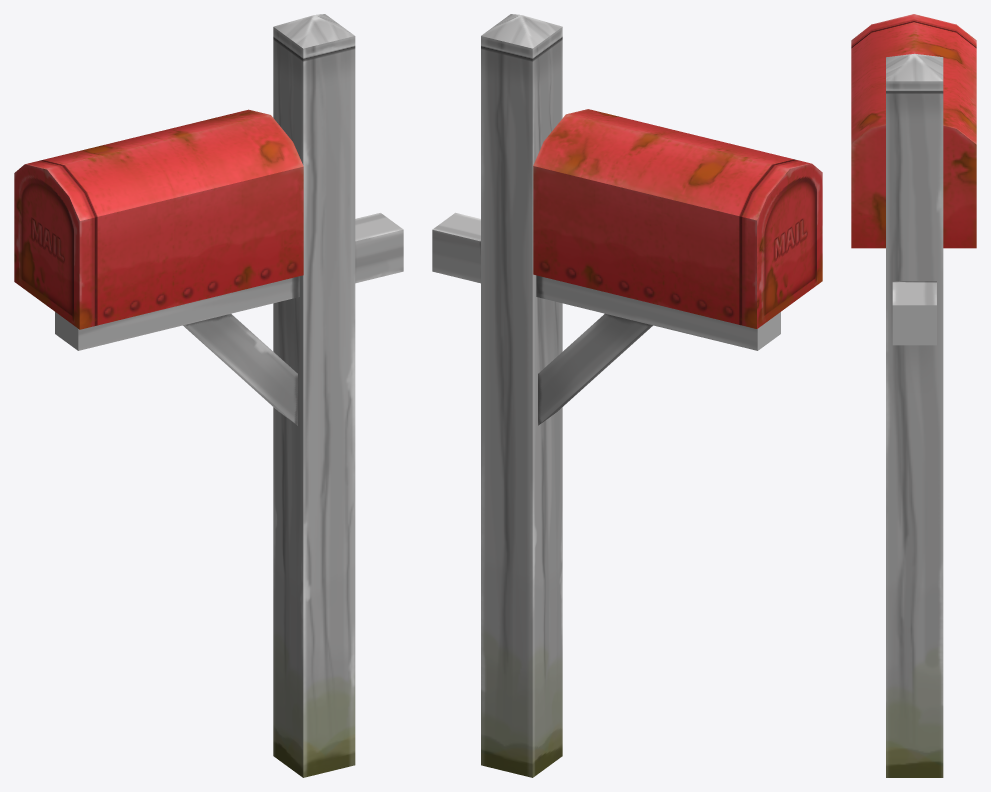
File: mailBox01.fbx
3 renders of one model, left to right at view 1: azimuth 30°, elevation 25°; view 2: azimuth 150°, elevation 25°; view 3: azimuth 270°, elevation 25°, orthographic. The views are drawn at different scales.
Visible parts, largest first — view 1: mailBox01; view 2: mailBox01; view 3: mailBox01.
Boxes of the visible parts, bbox=[...] form: mailBox01: bbox=[14, 14, 403, 777]; mailBox01: bbox=[432, 14, 822, 777]; mailBox01: bbox=[851, 14, 976, 777].
Size of the model in its own units: 66.5 by 137 by 21.86.
